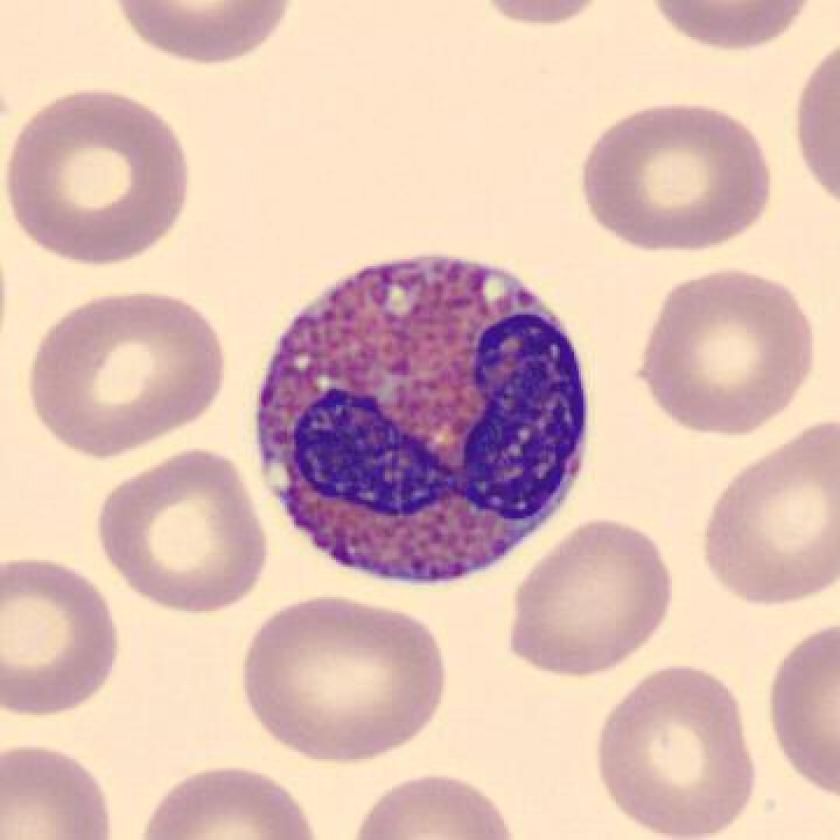eosinophil: (246, 239, 601, 598)
